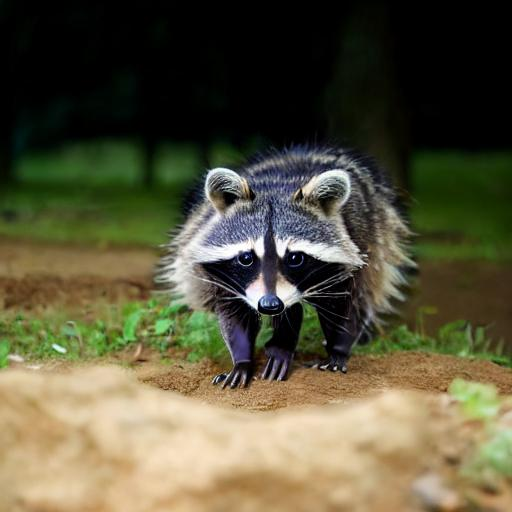raccoon: (148, 138, 422, 366)
